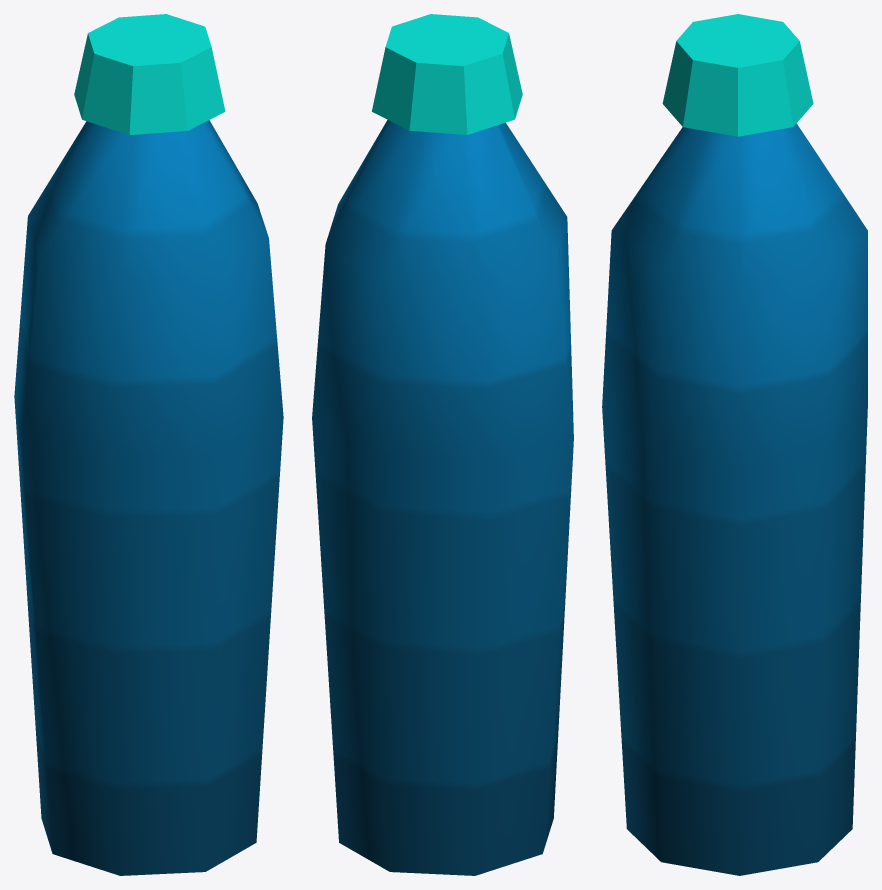
Rendered from Bottle.fbx.
3 renders of one model, left to right at view 1: azimuth 30°, elevation 25°; view 2: azimuth 150°, elevation 25°; view 3: azimuth 270°, elevation 25°, orthographic.
Parts seen in each view (by area): view 1: Bottle; view 2: Bottle; view 3: Bottle.
Boxes of the visible parts, x1,y1,x2,y2 form: Bottle: (14, 14, 283, 875); Bottle: (312, 14, 573, 875); Bottle: (602, 14, 867, 875).
Size of the model in its own units: 9.95 by 29.45 by 9.
